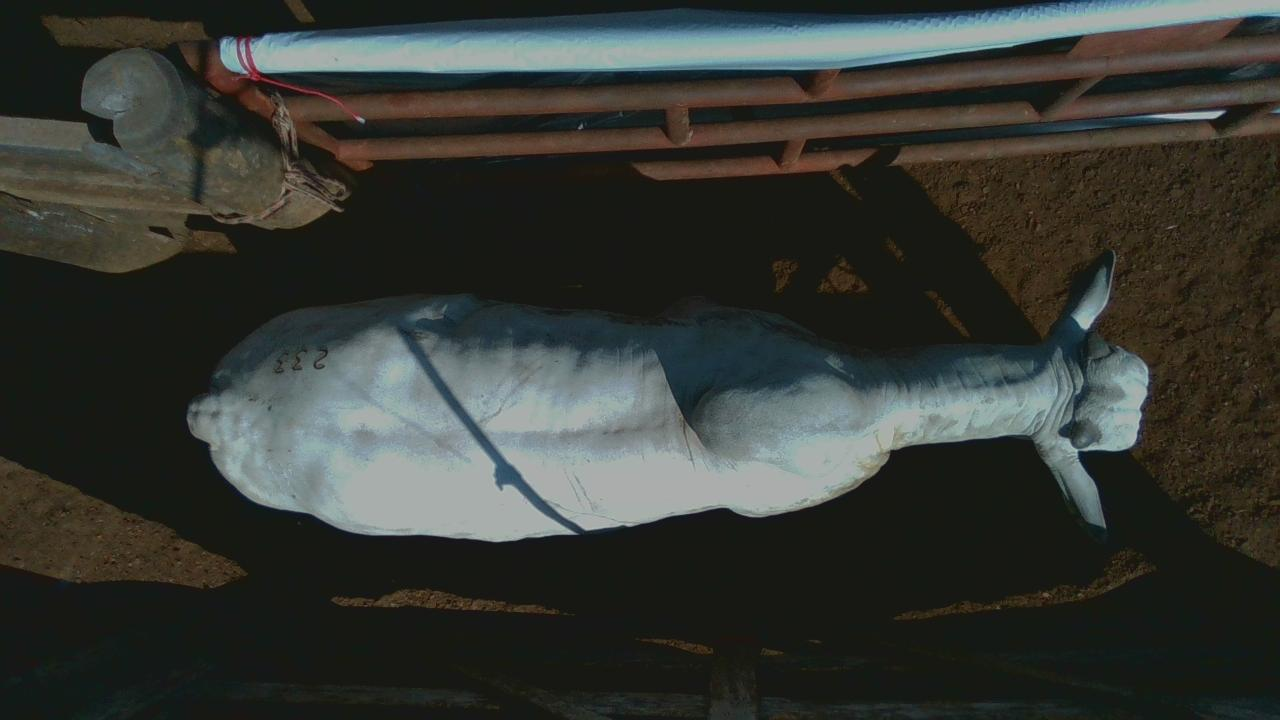cattle: (186, 246, 1150, 545)
